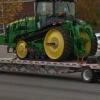Tractor: (10, 9, 100, 64)
